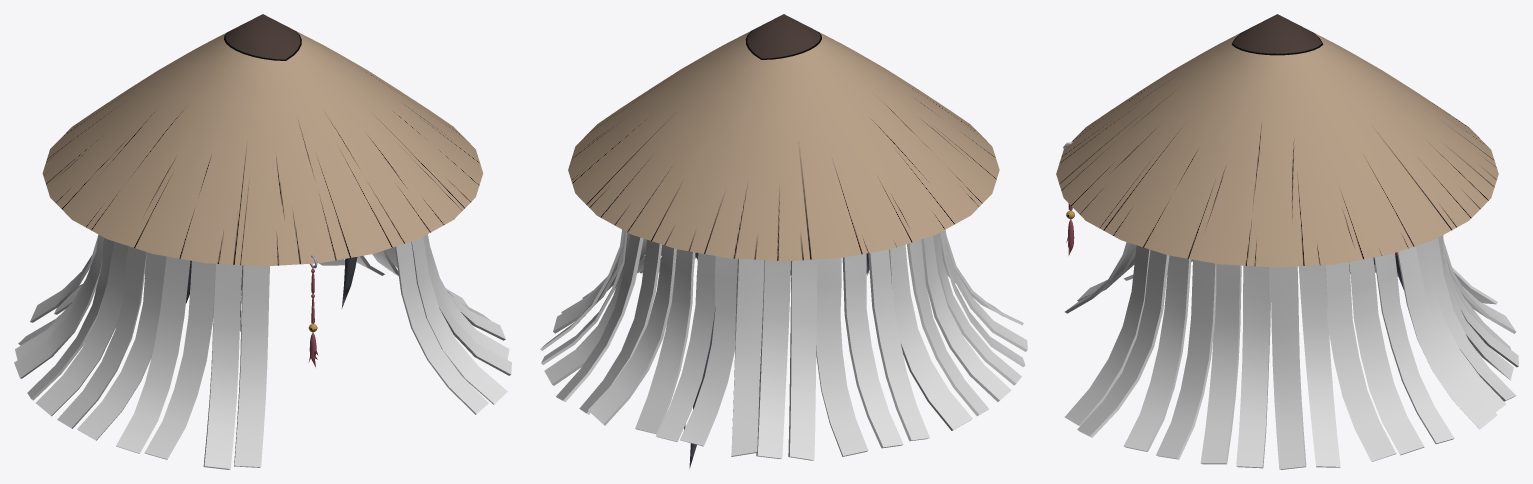
The model's file is Akatsuki Hat.obj.
The picture shows the model from 3 angles, left to right: view 1: azimuth 30°, elevation 25°; view 2: azimuth 150°, elevation 25°; view 3: azimuth 270°, elevation 25°; orthographic projection. The views are drawn at different scales.
Visible parts, largest first — view 1: SK_CHR_Umbrella_Hat_01.mo; view 2: SK_CHR_Umbrella_Hat_01.mo; view 3: SK_CHR_Umbrella_Hat_01.mo.
Boxes of the visible parts, left/top/right/bottom form: SK_CHR_Umbrella_Hat_01.mo: left=14, top=14, right=511, bottom=469; SK_CHR_Umbrella_Hat_01.mo: left=540, top=14, right=1027, bottom=468; SK_CHR_Umbrella_Hat_01.mo: left=1056, top=14, right=1518, bottom=469.
Bounding box in the file's own units: 50.58 × 44.38 × 47.26.
Materials: 4 (4 with a texture image).
